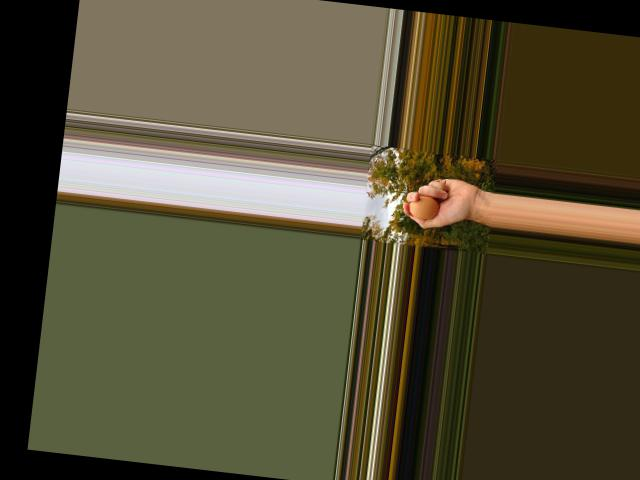egg: (408, 193, 440, 220)
